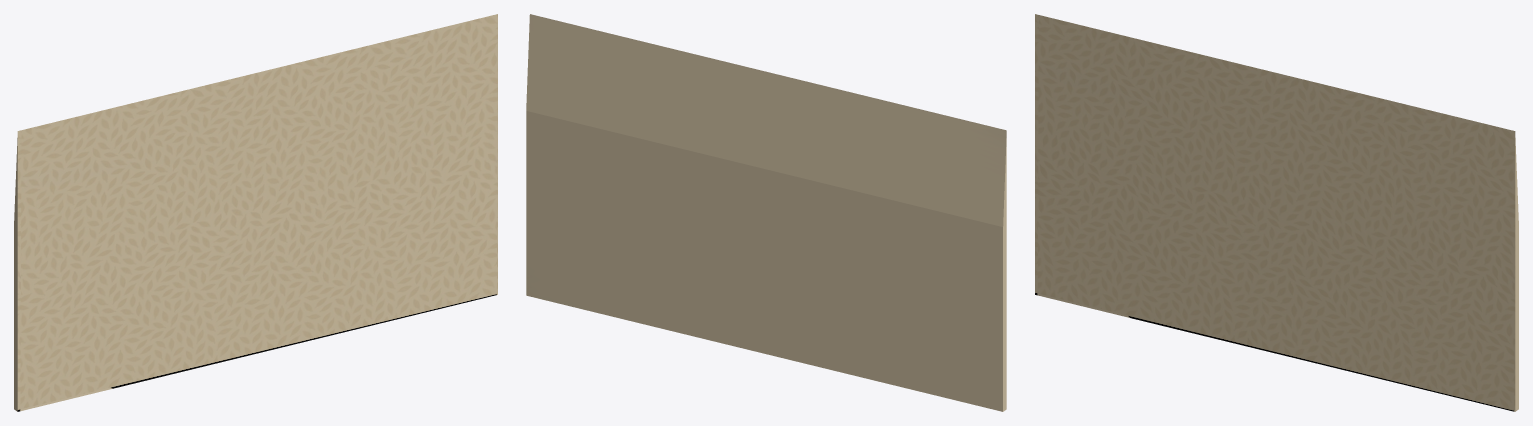
The model's file is pared.glb.
The picture shows the model from 3 angles, left to right: view 1: azimuth 30°, elevation 25°; view 2: azimuth 150°, elevation 25°; view 3: azimuth 330°, elevation 25°; orthographic projection.
Visible parts, largest first — view 1: pared; view 2: pared; view 3: pared.
Boxes of the visible parts, x1,y1,x2,y2 form: pared: (14, 14, 497, 411); pared: (526, 14, 1006, 411); pared: (1035, 14, 1518, 411).
Size of the model in its own units: 25.17 by 14.07 by 0.3354.
Materials: 1 (1 with a texture image).
